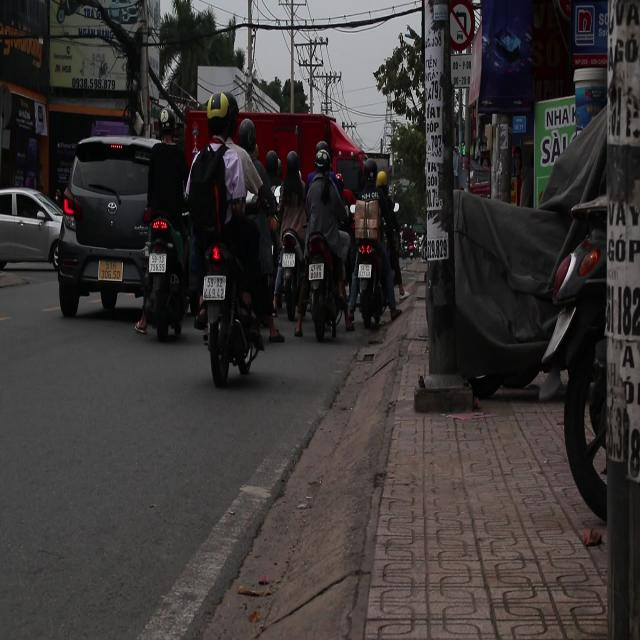car: (53, 137, 160, 323), (2, 188, 63, 271)
motorbike: (134, 139, 192, 344), (196, 218, 261, 388), (271, 153, 310, 339), (306, 228, 348, 354), (355, 230, 391, 332)
